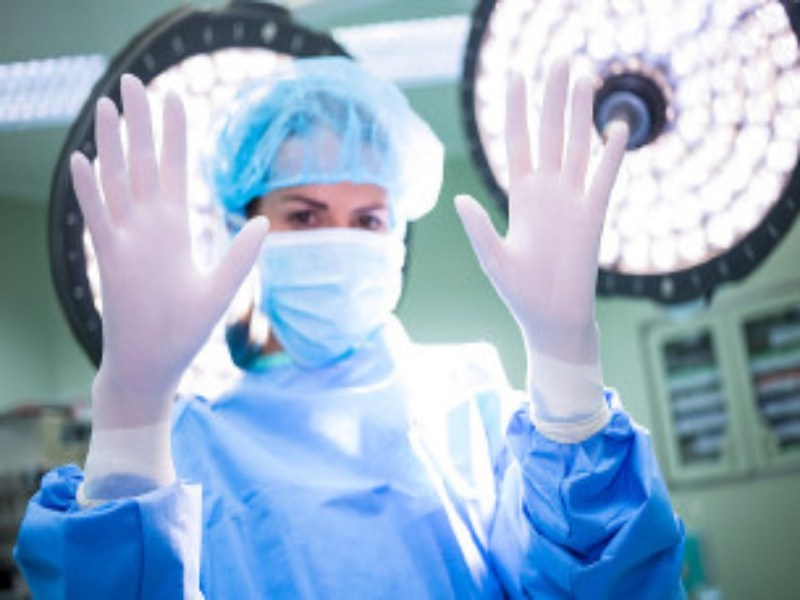mask: (210, 66, 430, 357)
